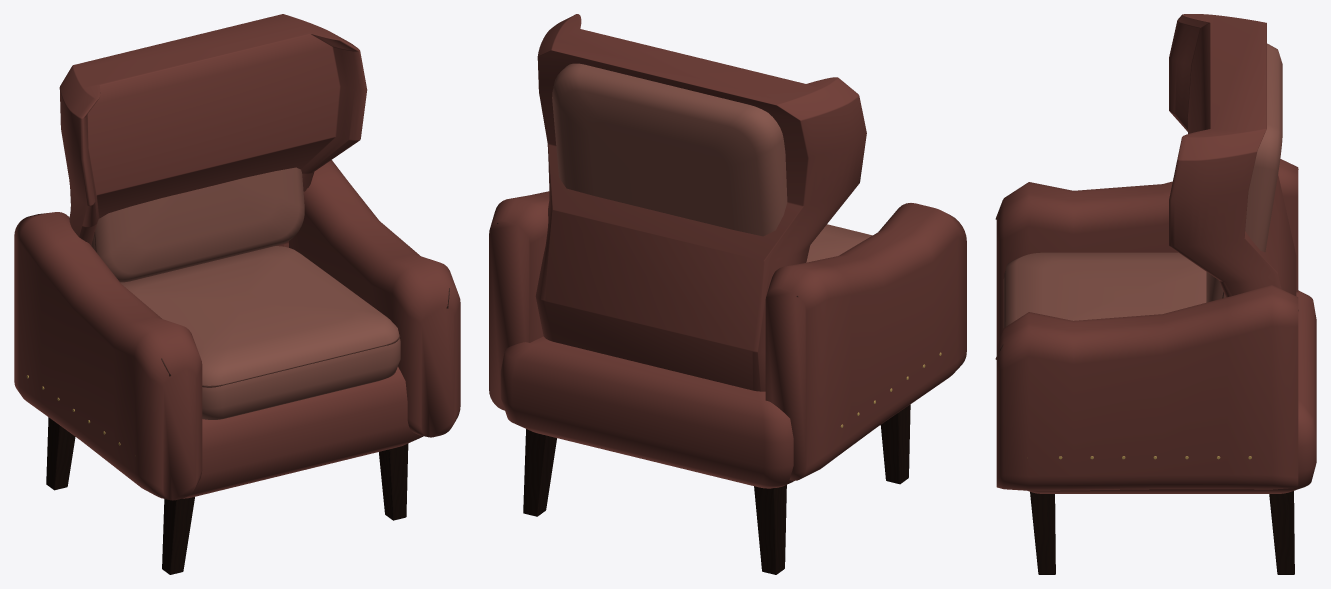
File: S028_wing_armchair_rebuilt.glb
3 renders of one model, left to right at view 1: azimuth 30°, elevation 25°; view 2: azimuth 150°, elevation 25°; view 3: azimuth 270°, elevation 25°, orthographic. The views are drawn at different scales.
Parts seen in each view (by area): view 1: Wing_chair_oxblood_leather, Wing_chair_worn_leather_seat, Wing_chair_walnut_legs; view 2: Wing_chair_oxblood_leather, Wing_chair_worn_leather_seat, Wing_chair_walnut_legs; view 3: Wing_chair_oxblood_leather, Wing_chair_worn_leather_seat, Wing_chair_walnut_legs.
Part boxes in pixels (box(x1,y1,x2,y2)): Wing_chair_oxblood_leather: box(14, 14, 460, 500); Wing_chair_worn_leather_seat: box(91, 167, 400, 419); Wing_chair_walnut_legs: box(46, 417, 408, 574); Wing_chair_oxblood_leather: box(489, 14, 966, 488); Wing_chair_worn_leather_seat: box(552, 63, 872, 262); Wing_chair_walnut_legs: box(523, 404, 910, 574); Wing_chair_oxblood_leather: box(996, 14, 1316, 493); Wing_chair_worn_leather_seat: box(1003, 43, 1282, 327); Wing_chair_walnut_legs: box(1030, 491, 1294, 574).
Bounding box in the file's own units: 0.99 × 1.27 × 0.84.
5 materials, 1 textured.
